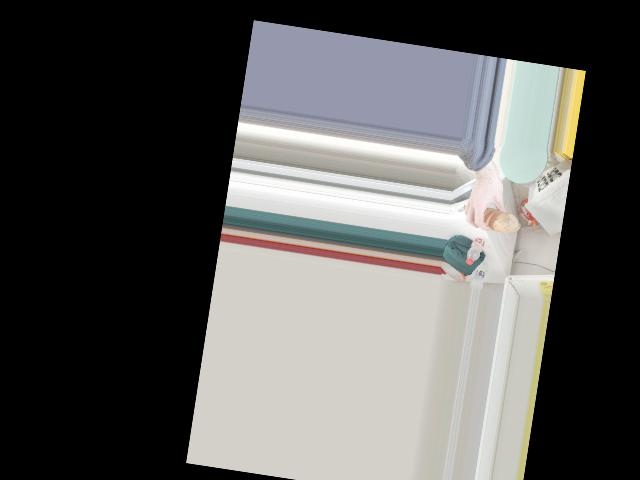sweet_potato: (472, 195, 512, 229)
